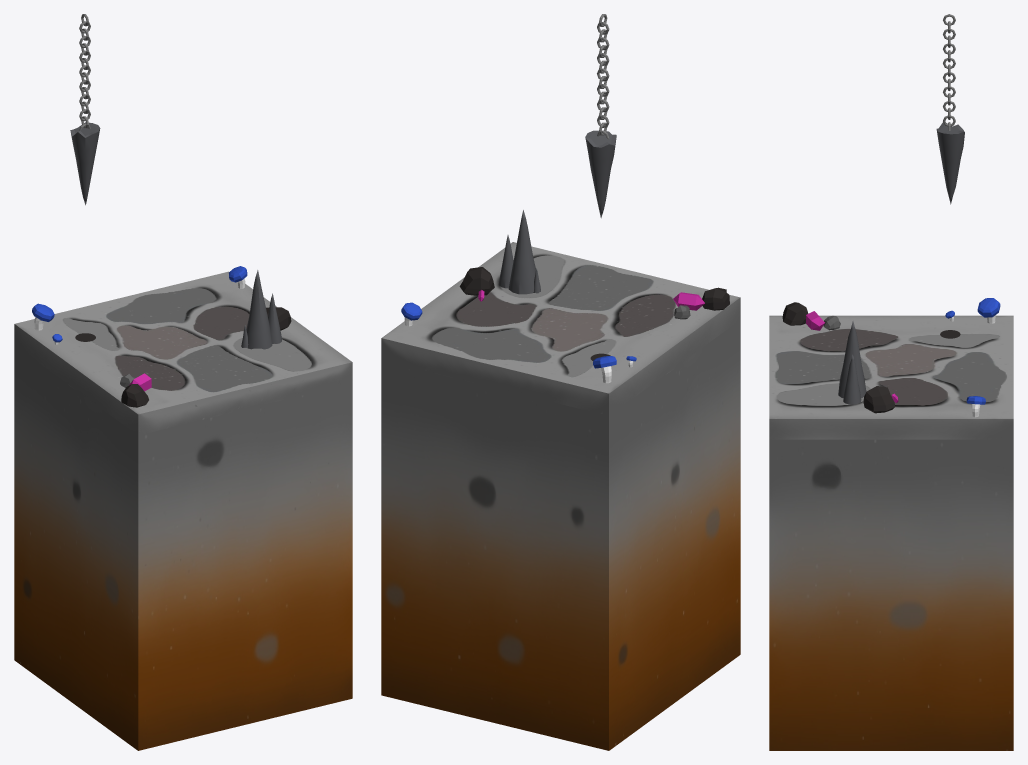
Rendered from Enmedio3Cueva.fbx.
The picture shows the model from 3 angles, left to right: view 1: azimuth 30°, elevation 25°; view 2: azimuth 150°, elevation 25°; view 3: azimuth 270°, elevation 25°; orthographic projection. The views are drawn at different scales.
Parts seen in each view (by area): view 1: Enmedio3Cueva, PinchosMalo.001, EstalagtitaMalo, Torus.008; view 2: Enmedio3Cueva, PinchosMalo.001, EstalagtitaMalo, Torus.008, Cube.065; view 3: Enmedio3Cueva, PinchosMalo.001, EstalagtitaMalo, Torus.008, Cube.065, Cube.066.
Boxes of the visible parts, x1,y1,x2,y2 form: Enmedio3Cueva: (14, 271, 352, 750); PinchosMalo.001: (241, 270, 281, 349); EstalagtitaMalo: (70, 122, 100, 205); Torus.008: (79, 14, 90, 130); Enmedio3Cueva: (381, 242, 740, 750); PinchosMalo.001: (498, 210, 540, 294); EstalagtitaMalo: (585, 130, 616, 218); Torus.008: (597, 14, 609, 138); Cube.065: (459, 267, 494, 295); Enmedio3Cueva: (769, 315, 1013, 750); PinchosMalo.001: (838, 321, 866, 404); EstalagtitaMalo: (936, 122, 964, 204); Torus.008: (943, 14, 955, 130); Cube.065: (863, 386, 895, 413); Cube.066: (782, 302, 808, 325).
Size of the model in its own units: 1005 by 2946 by 1000.
